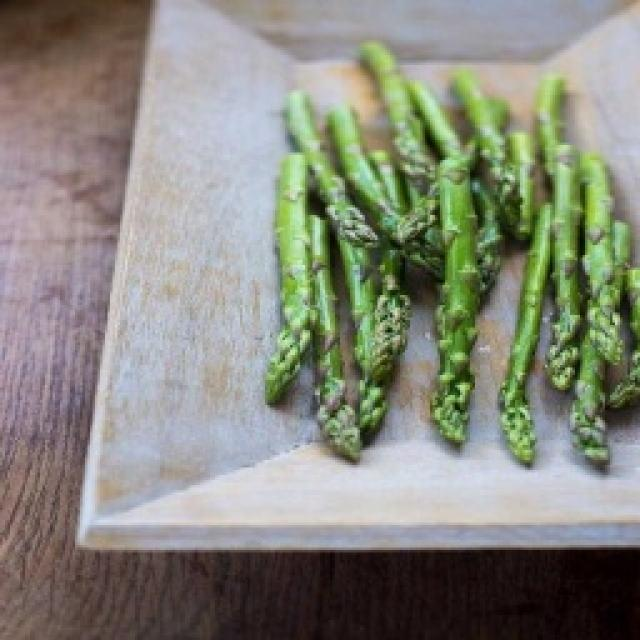Asparagus spear: (424, 150, 479, 425), (262, 100, 312, 391), (543, 164, 601, 392)
